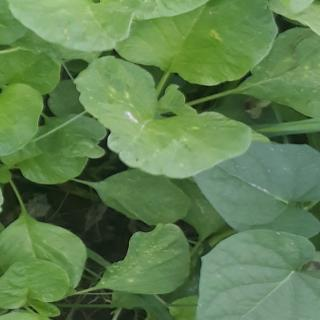karat_putih: (73, 58, 257, 184), (96, 216, 197, 302), (261, 24, 320, 120)
